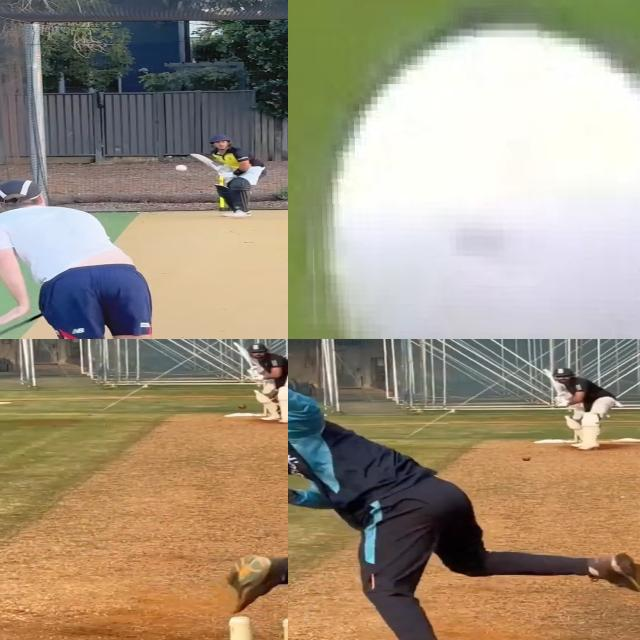Cricket ball: (303, 12, 640, 339), (175, 162, 190, 174), (522, 456, 533, 462), (238, 404, 246, 409)
